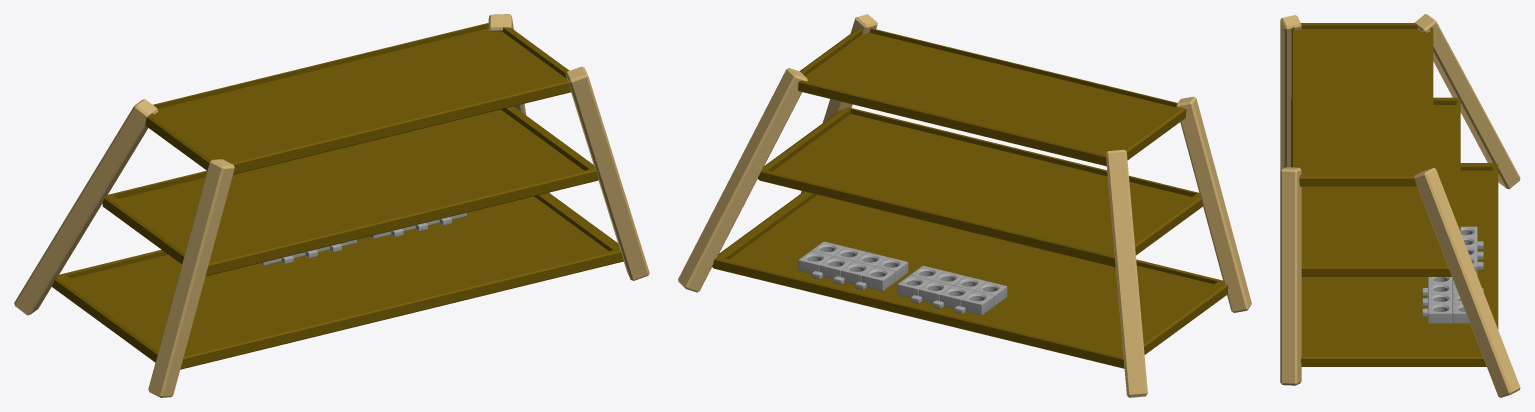
The model's file is Shelf.fbx.
The picture shows the model from 3 angles, left to right: view 1: azimuth 30°, elevation 25°; view 2: azimuth 150°, elevation 25°; view 3: azimuth 270°, elevation 25°; orthographic projection. The views are drawn at different scales.
Parts seen in each view (by area): view 1: Bottom, Middle, Top, Pillar_4, Pillar_3, Pillar_5; view 2: Bottom, Middle, Top, Pillar_6, Pillar_3, Pillar_4, Vial_Holder1 (×2), Pillar_5; view 3: Top, Bottom, Middle, Pillar_6, Pillar_5, Pillar_3, Pillar_4, Vial_Holder7, Vial_Holder4, Vial_Holder6, Vial_Holder8.
Part boxes in pixels (x1=…): Bottom: x1=52, y1=192, x2=623, y2=369; Middle: x1=102, y1=106, x2=598, y2=276; Top: x1=145, y1=23, x2=571, y2=174; Pillar_4: x1=148, y1=159, x2=234, y2=397; Pillar_3: x1=14, y1=99, x2=158, y2=315; Pillar_5: x1=565, y1=66, x2=649, y2=280; Bottom: x1=712, y1=191, x2=1228, y2=368; Middle: x1=758, y1=107, x2=1202, y2=267; Top: x1=798, y1=28, x2=1186, y2=166; Pillar_6: x1=678, y1=68, x2=807, y2=292; Pillar_3: x1=1105, y1=149, x2=1147, y2=397; Pillar_4: x1=1176, y1=96, x2=1251, y2=312; Vial_Holder1 (×2): x1=862, y1=266, x2=994, y2=315; Pillar_5: x1=800, y1=14, x2=877, y2=193; Top: x1=1291, y1=23, x2=1433, y2=186; Bottom: x1=1301, y1=163, x2=1498, y2=366; Middle: x1=1291, y1=97, x2=1460, y2=276; Pillar_6: x1=1414, y1=168, x2=1520, y2=397; Pillar_5: x1=1280, y1=167, x2=1301, y2=385; Pillar_3: x1=1414, y1=14, x2=1520, y2=189; Pillar_4: x1=1280, y1=15, x2=1301, y2=170; Vial_Holder7: x1=1428, y1=303, x2=1452, y2=323; Vial_Holder4: x1=1452, y1=303, x2=1469, y2=323; Vial_Holder6: x1=1428, y1=293, x2=1452, y2=303; Vial_Holder8: x1=1428, y1=283, x2=1452, y2=293.
Bounding box in the file's own units: 46.1 × 19.42 × 21.1.
